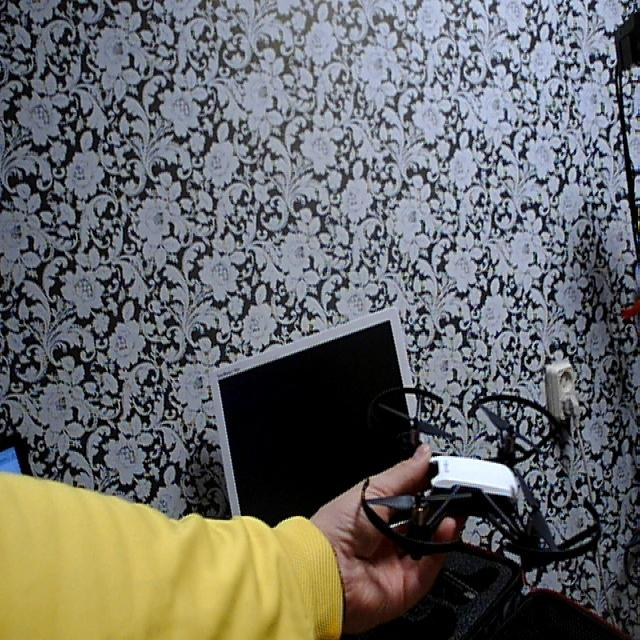drone: (371, 371, 608, 594)
